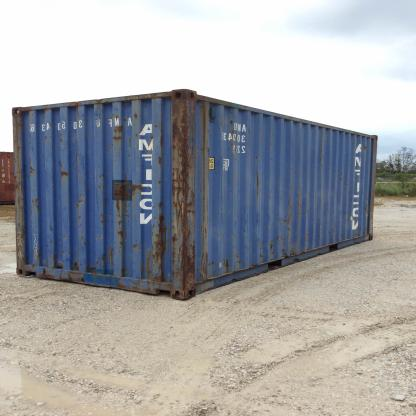Damage: (172, 100, 200, 284), (111, 180, 145, 250), (154, 214, 170, 284), (102, 120, 130, 143), (254, 238, 277, 264), (249, 166, 264, 200), (216, 254, 238, 273), (295, 186, 305, 220), (45, 219, 55, 251), (154, 120, 164, 150), (51, 252, 67, 268), (228, 111, 235, 147), (131, 282, 155, 292), (77, 225, 87, 248), (144, 250, 152, 278), (64, 273, 86, 283), (283, 212, 294, 232), (59, 160, 71, 178), (74, 193, 88, 207), (39, 268, 55, 280), (31, 196, 41, 214), (96, 171, 106, 188), (96, 209, 106, 226), (320, 135, 326, 163), (108, 247, 116, 266), (34, 247, 42, 265), (115, 278, 129, 288), (284, 195, 294, 209), (28, 158, 36, 175), (156, 200, 165, 214), (156, 154, 165, 168), (336, 170, 346, 182), (73, 257, 81, 271), (84, 266, 98, 274), (74, 150, 82, 164), (138, 262, 144, 280), (42, 132, 54, 140), (119, 267, 128, 277), (328, 227, 338, 236), (362, 203, 370, 213), (106, 144, 115, 152), (132, 112, 140, 121), (58, 131, 64, 143), (366, 193, 373, 202), (100, 252, 106, 262), (288, 166, 296, 173), (97, 233, 105, 239), (240, 228, 248, 234), (216, 207, 222, 214), (254, 155, 260, 162), (129, 138, 133, 147), (62, 232, 68, 238), (94, 260, 100, 266), (124, 171, 128, 180), (305, 231, 311, 237), (318, 174, 324, 180), (150, 134, 154, 142), (132, 122, 138, 127), (228, 188, 234, 193), (76, 216, 84, 219), (328, 166, 334, 170), (342, 211, 348, 215), (46, 256, 48, 266), (216, 233, 220, 238), (74, 136, 78, 141), (264, 221, 268, 226), (233, 156, 238, 160), (152, 204, 155, 210), (118, 147, 122, 151), (135, 134, 139, 138), (140, 128, 144, 132), (146, 148, 150, 152), (126, 154, 130, 158), (346, 182, 350, 186), (313, 165, 317, 168), (107, 170, 110, 173), (96, 165, 100, 167), (73, 168, 74, 170)
